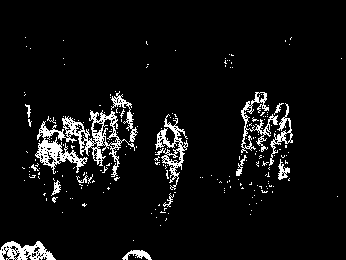person: (155, 111, 188, 218), (36, 119, 66, 201), (263, 102, 292, 184), (89, 107, 120, 182), (239, 90, 265, 176), (64, 114, 92, 187), (108, 90, 138, 154)
